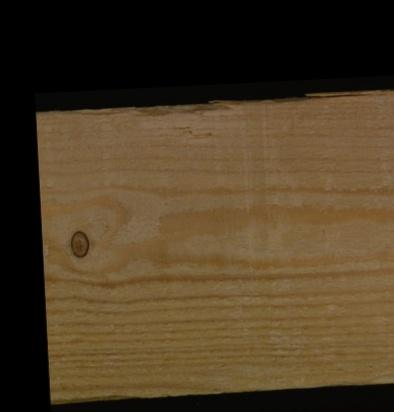dry_knot: (67, 229, 90, 259)
wave: (63, 102, 237, 125)
